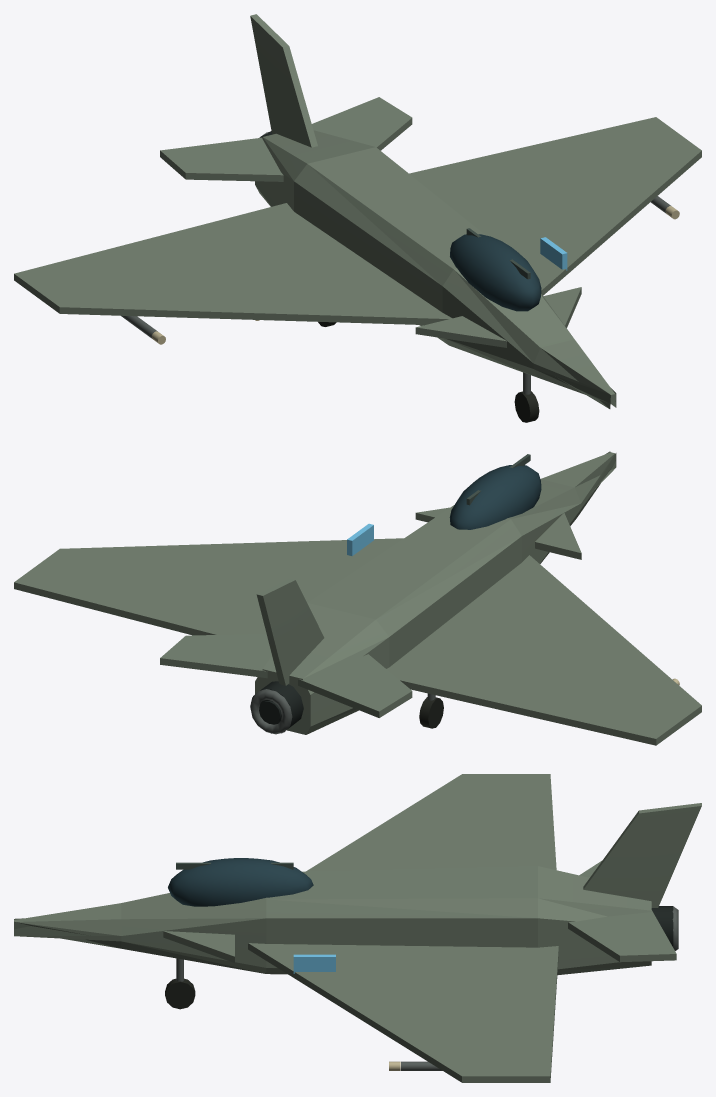
File: attackAircraft.glb
3 renders of one model, top to bottom at view 1: azimuth 30°, elevation 25°; view 2: azimuth 150°, elevation 25°; view 3: azimuth 270°, elevation 25°, orthographic. The views are drawn at different scales.
Parts seen in each view (by area): view 1: armor, glass, equipment (×2); view 2: armor, glass, equipment (×2), marking; view 3: armor, glass, equipment (×2), marking.
Boxes of the visible parts, x1,y1,x2,y2 form: armor: (14, 14, 701, 408); glass: (450, 234, 541, 311); equipment (×2): (121, 131, 679, 422); armor: (14, 451, 701, 745); glass: (449, 465, 541, 529); equipment (×2): (250, 454, 679, 734); marking: (347, 523, 373, 555); armor: (14, 774, 701, 1082); glass: (168, 858, 313, 906); equipment (×2): (165, 862, 678, 1070); marking: (293, 954, 335, 973).
Size of the model in its own units: 8.5 by 2.64 by 8.17.
